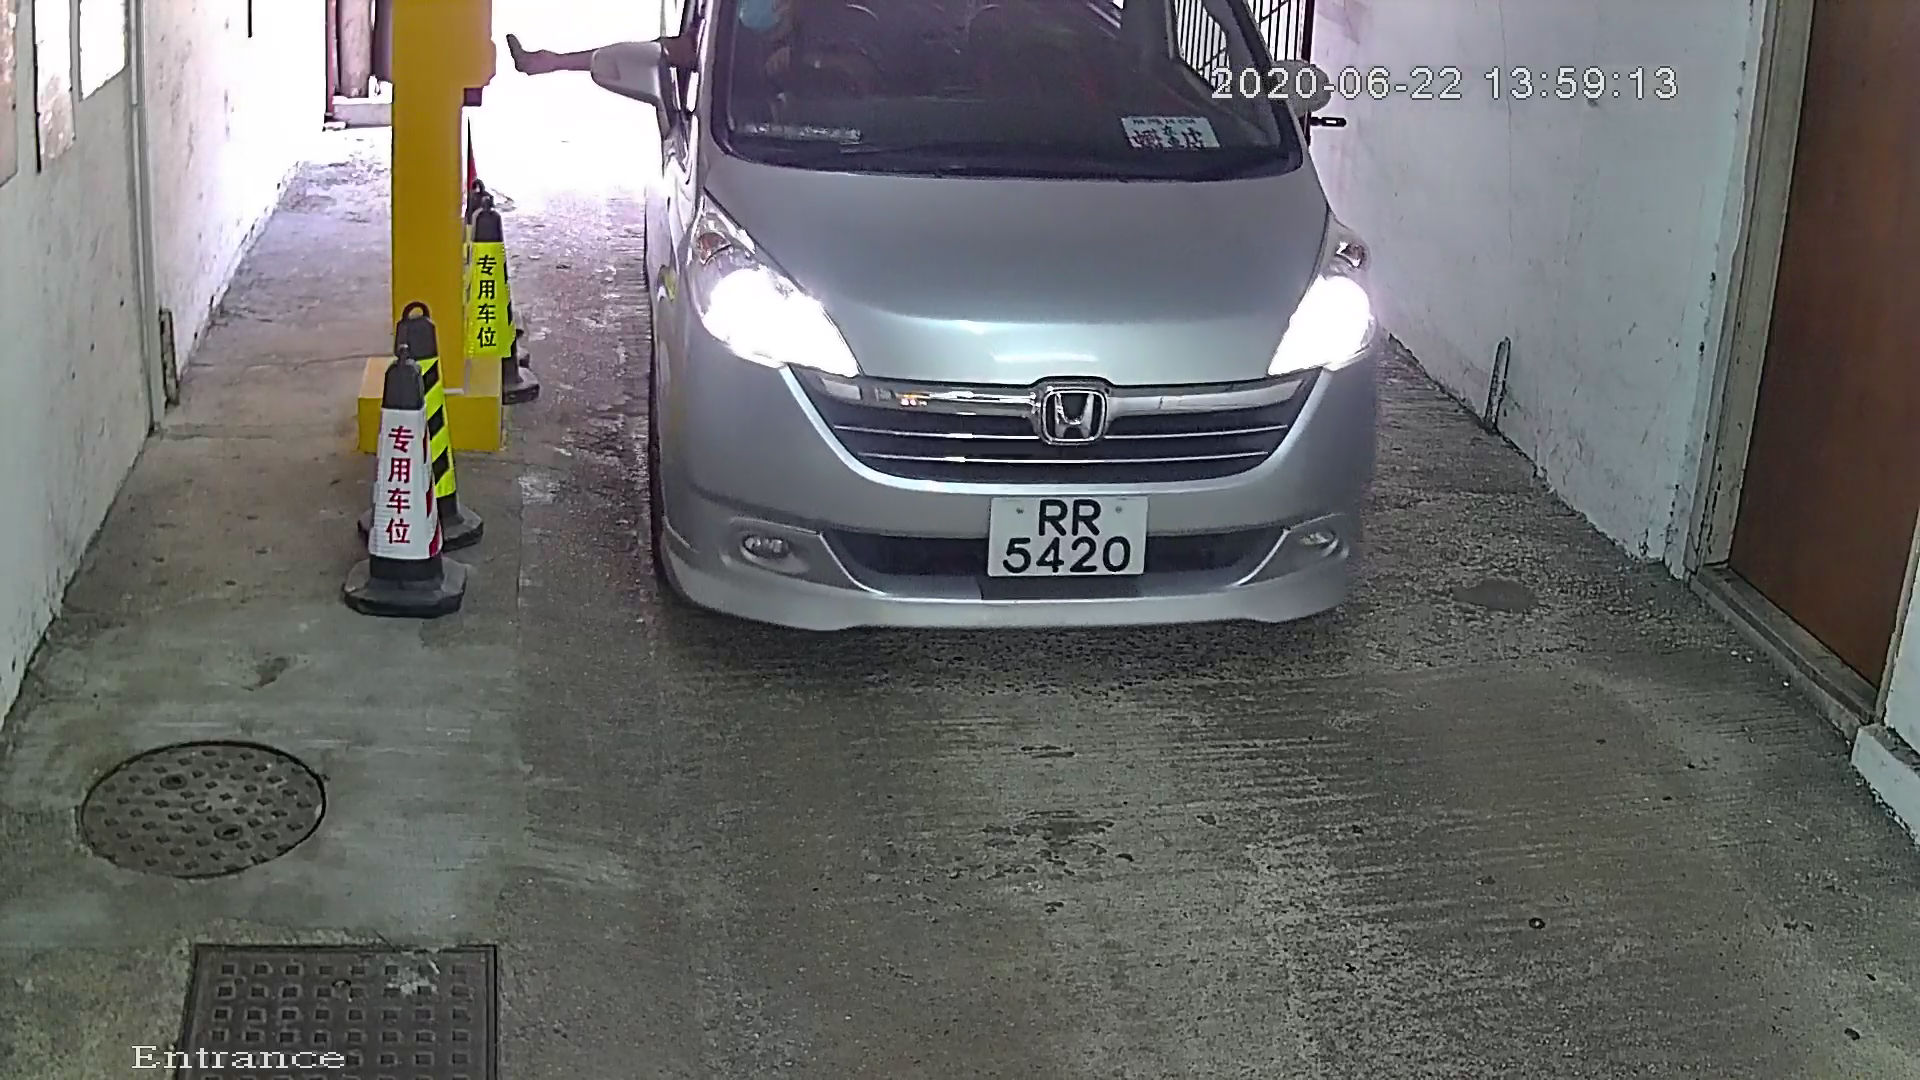privatecar: (551, 3, 1440, 713)
